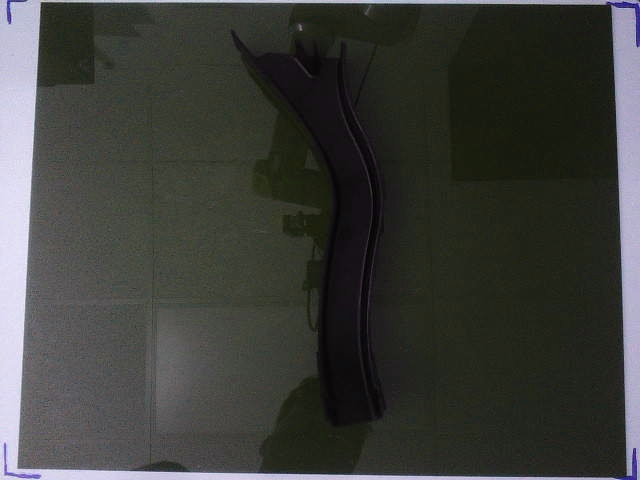887_B-Under: (230, 30, 386, 426)
